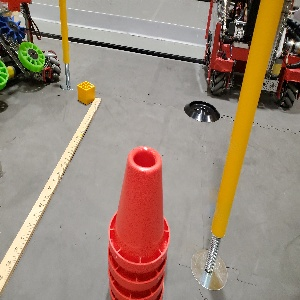Red_4: (107, 144, 170, 299)
